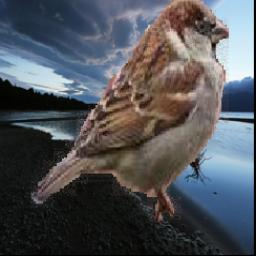Sparrow: (29, 0, 230, 222)
